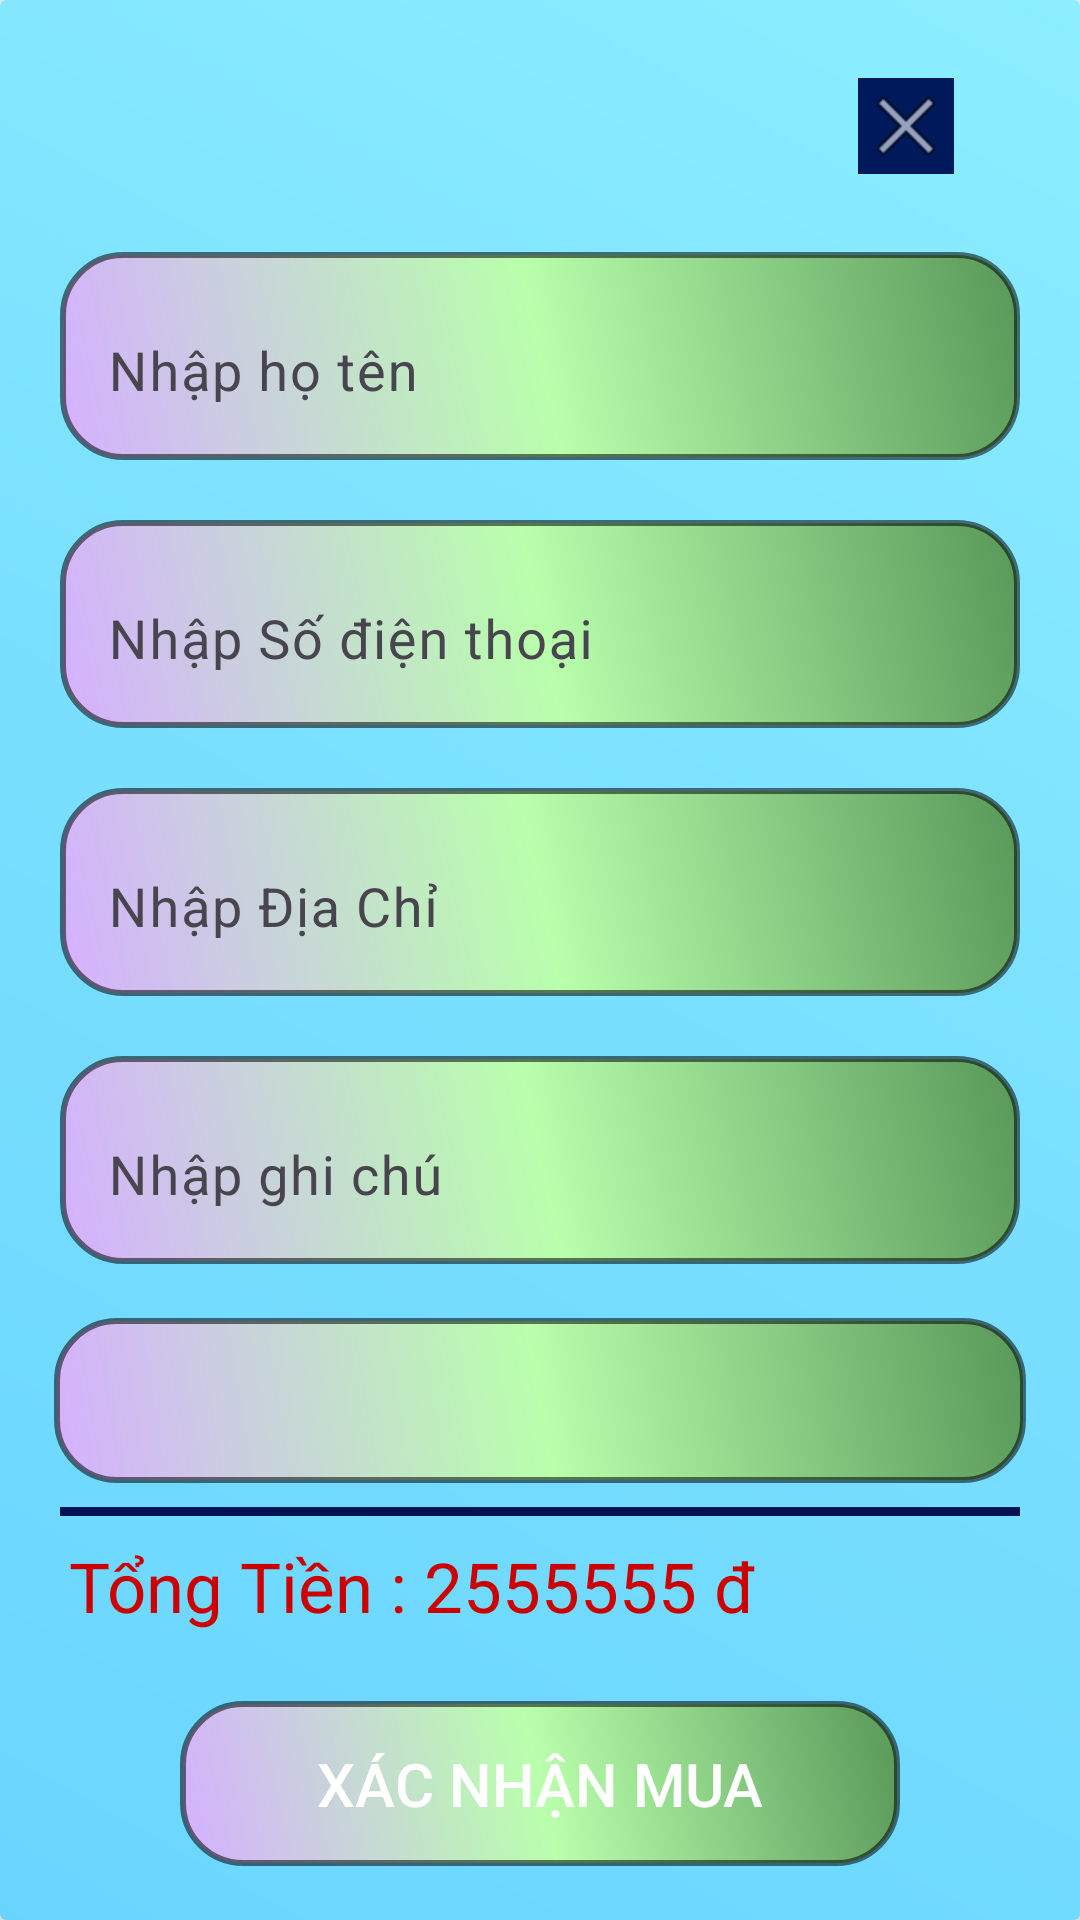

Where to tap for icons on this 1080 x 1920 app screen, as [x,y]:
close clear cancel: [906,126]
